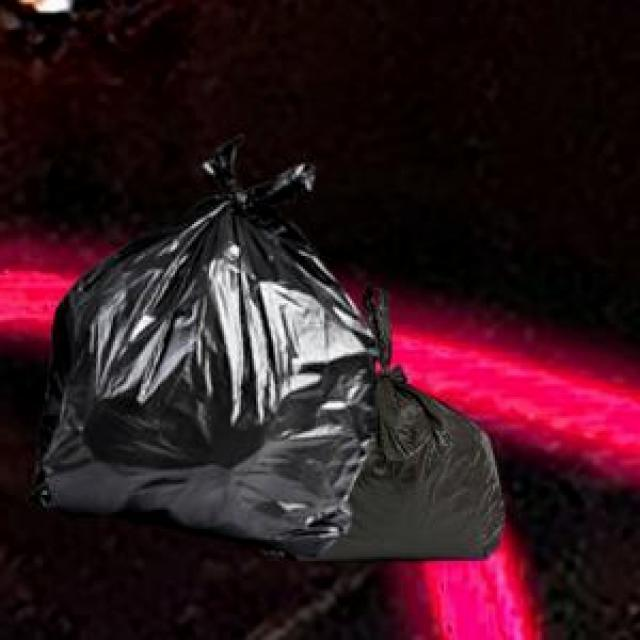Trashbag: (32, 191, 380, 550), (337, 355, 511, 579)
